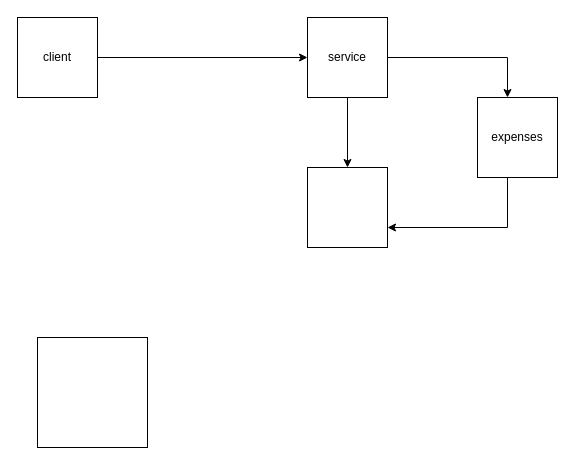
The diagram is 575 pixels wide and 465 high, and some of its shapes have lost their labels. The shapes that lost their labels are listed below. From the top down, each one's box as (x1, y1, x2, y2) in pixels, then its label:
(306, 166, 388, 248): profit
(36, 336, 148, 448): procedure_type
